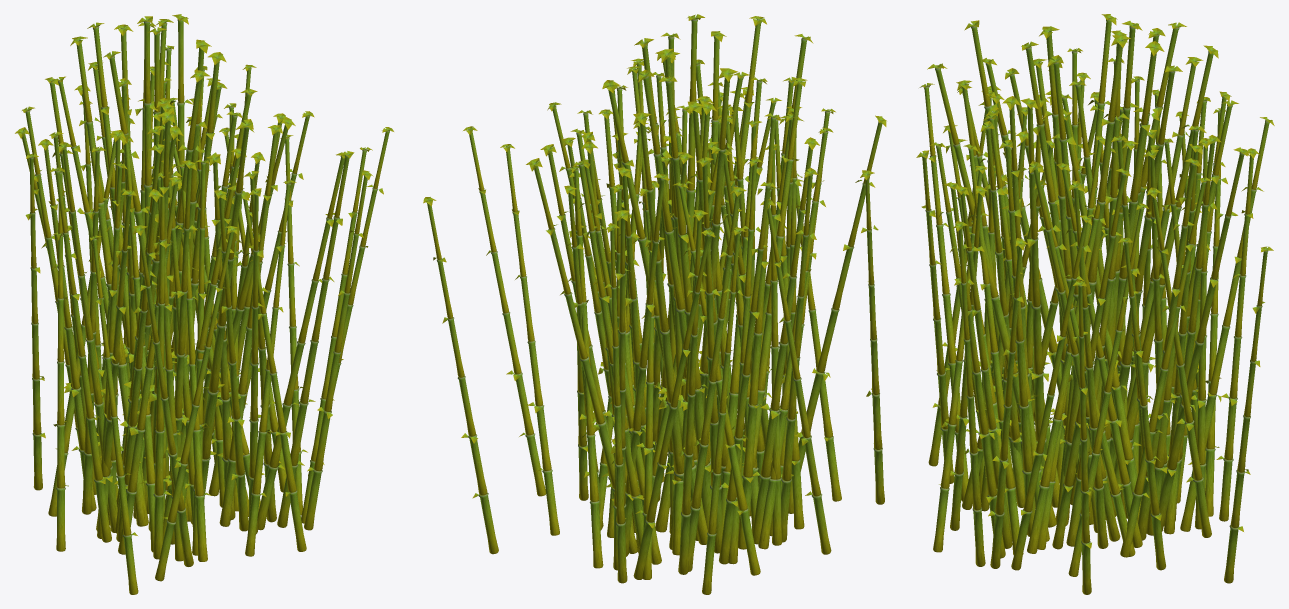
Rendered from bamboo-forest.fbx.
The picture shows the model from 3 angles, left to right: view 1: azimuth 30°, elevation 25°; view 2: azimuth 150°, elevation 25°; view 3: azimuth 270°, elevation 25°; orthographic projection. The views are drawn at different scales.
Parts seen in each view (by area): view 1: bamboo-forest; view 2: bamboo-forest; view 3: bamboo-forest.
Boxes of the visible parts, bbox=[...] form: bamboo-forest: bbox=[15, 14, 393, 594]; bamboo-forest: bbox=[423, 14, 886, 594]; bamboo-forest: bbox=[916, 14, 1274, 594].
Size of the model in its own units: 205 by 271 by 177.
Materials: 1 (1 with a texture image).
